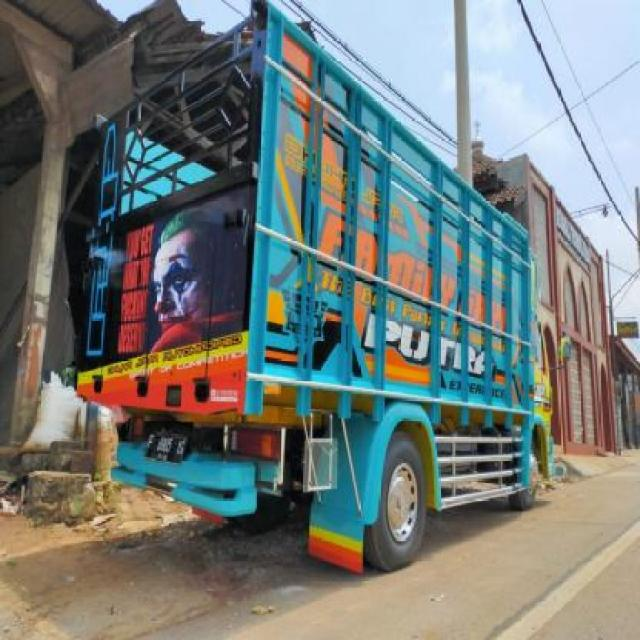truck: (37, 1, 574, 578)
